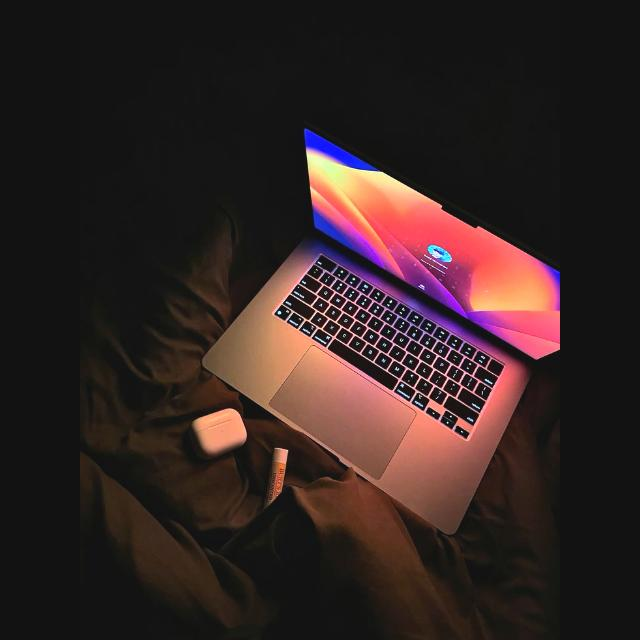laptop: (204, 125, 560, 534)
